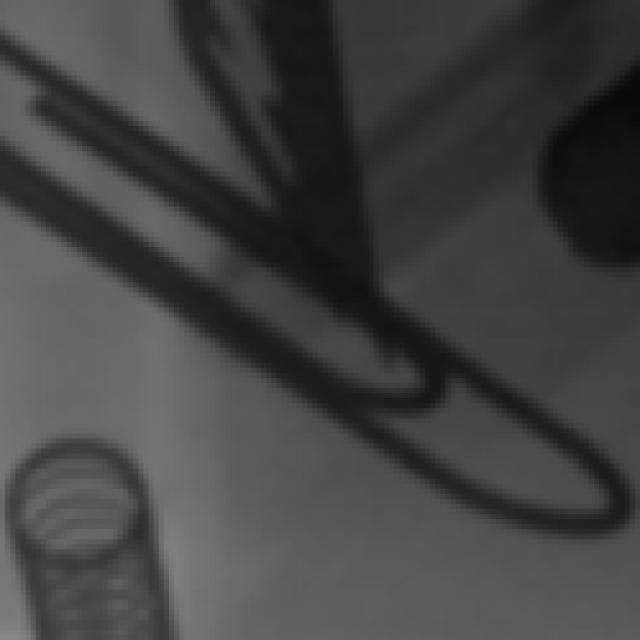BLADE: (118, 1, 400, 444)
